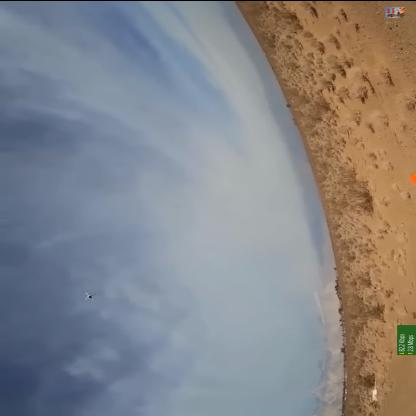drone: (78, 288, 97, 303)
